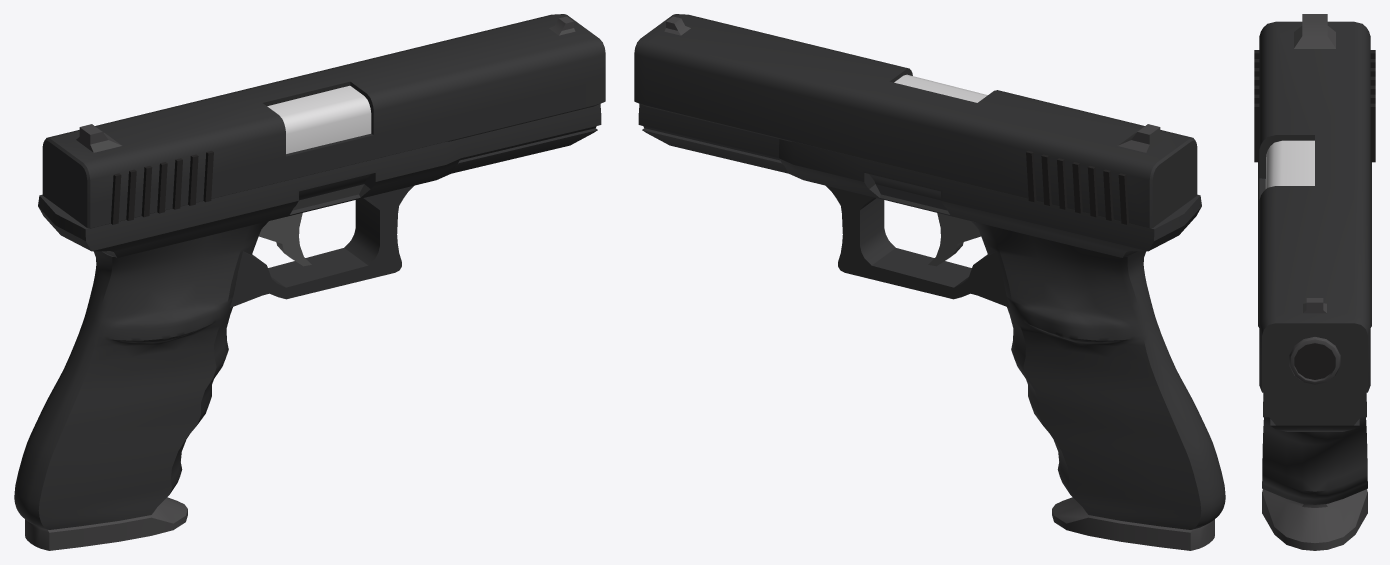
File: Glock_17_Mesh.fbx
3 renders of one model, left to right at view 1: azimuth 30°, elevation 25°; view 2: azimuth 150°, elevation 25°; view 3: azimuth 270°, elevation 25°, orthographic. The views are drawn at different scales.
Parts seen in each view (by area): view 1: Glock_17; view 2: Glock_17; view 3: Glock_17.
Part boxes in pixels (x1,y1,x2,y2): Glock_17: [14, 14, 605, 550]; Glock_17: [634, 14, 1225, 550]; Glock_17: [1254, 14, 1375, 550].
Size of the model in its own units: 0.4525 by 0.3082 by 0.0705.
